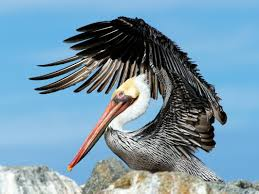pelican: (31, 16, 228, 184)
